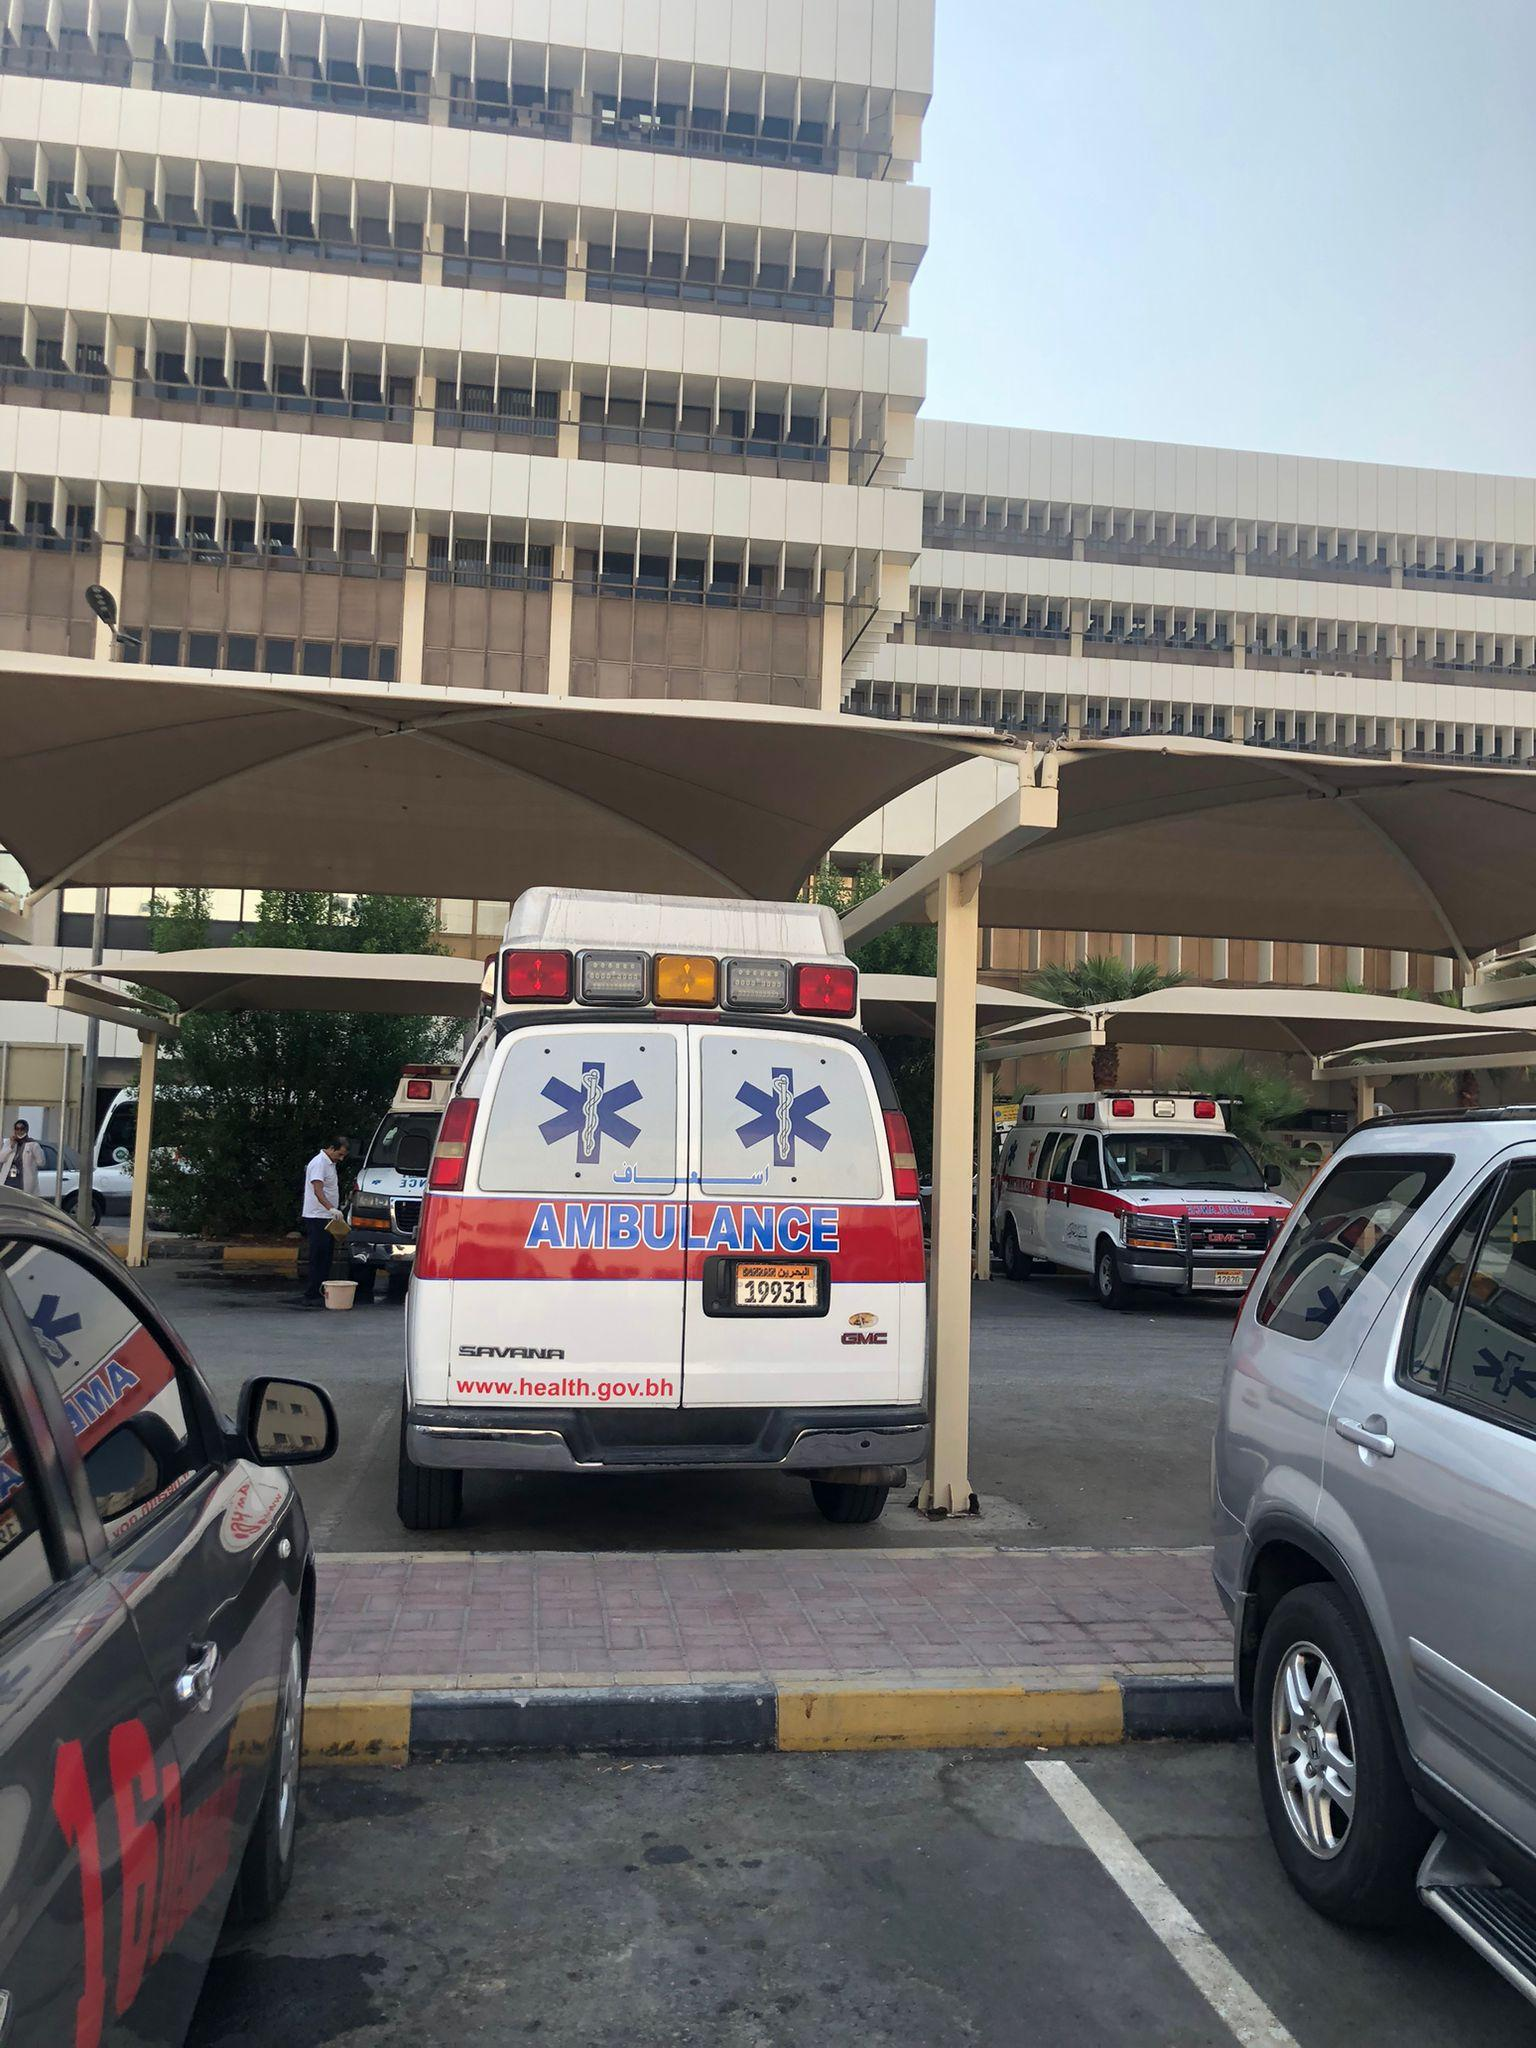ambulance_off: (400, 889, 929, 1522), (992, 1093, 1296, 1303), (342, 1058, 465, 1298)
